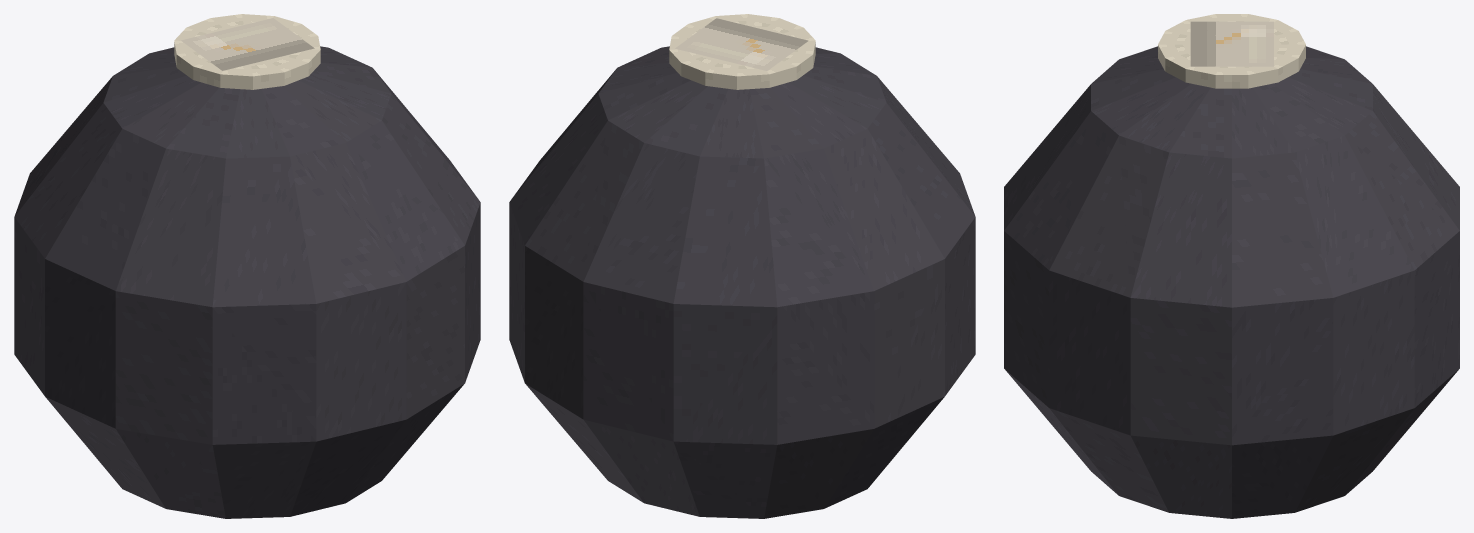
Rendered from magic_8_ball.glb.
3 views of the same model, side by side, from view 1: azimuth 30°, elevation 25°; view 2: azimuth 150°, elevation 25°; view 3: azimuth 270°, elevation 25° (orthographic).
Visible parts, largest first — view 1: block_ball, block_white number inset, block_number 8; view 2: block_ball, block_white number inset, block_number 8; view 3: block_ball, block_white number inset, block_number 8.
Part boxes in pixels (bbox=[...]): block_ball: bbox=[14, 46, 480, 518]; block_white number inset: bbox=[174, 14, 320, 89]; block_number 8: bbox=[181, 18, 314, 70]; block_ball: bbox=[509, 46, 975, 518]; block_white number inset: bbox=[669, 14, 815, 89]; block_number 8: bbox=[675, 18, 808, 70]; block_ball: bbox=[1004, 46, 1459, 518]; block_white number inset: bbox=[1158, 14, 1305, 88]; block_number 8: bbox=[1190, 21, 1273, 66].
Bounding box in the file's own units: 0.1114 × 0.12 × 0.1086.
Materials: 1 (1 with a texture image).
